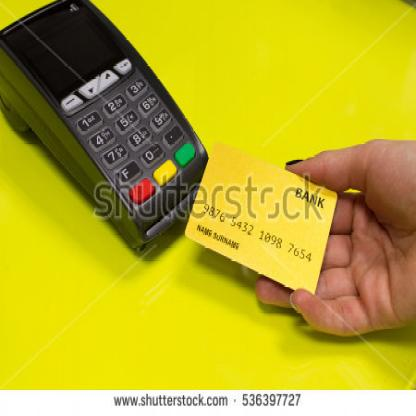tarjeta: (183, 138, 338, 298)
